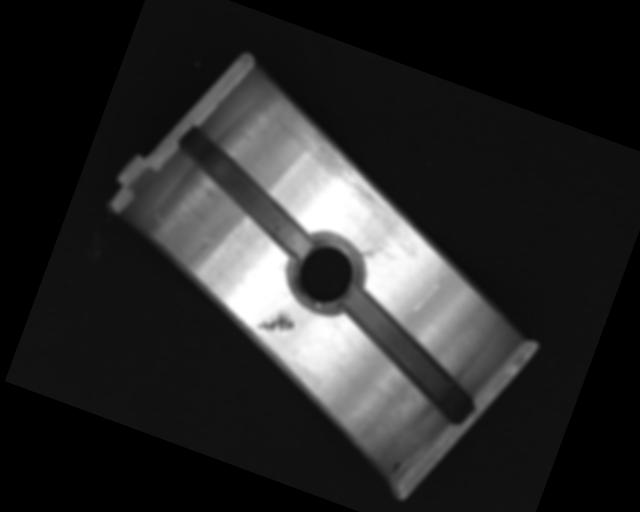blot: (390, 459, 401, 476)
bruise: (255, 303, 298, 340), (199, 232, 222, 247)
gap: (321, 286, 497, 425), (156, 123, 333, 256)
hole: (280, 225, 375, 324)
nick: (402, 251, 450, 324), (358, 241, 382, 262)
scratch: (257, 98, 425, 226)
